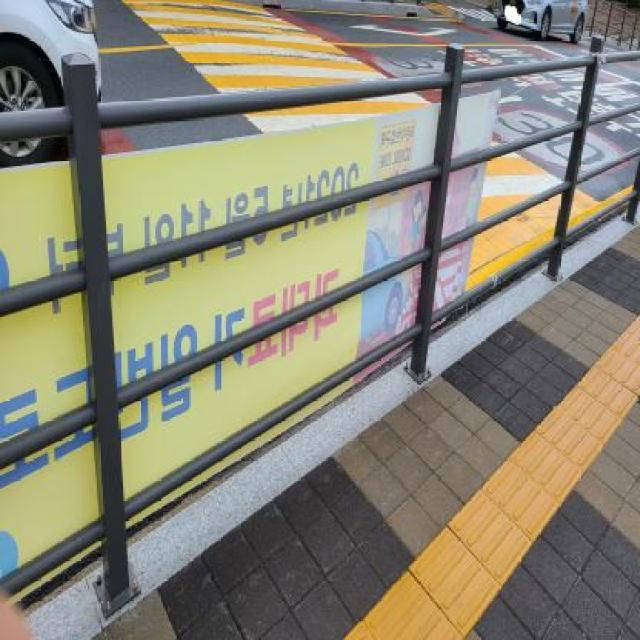fence: (1, 39, 448, 586), (0, 16, 640, 307)
